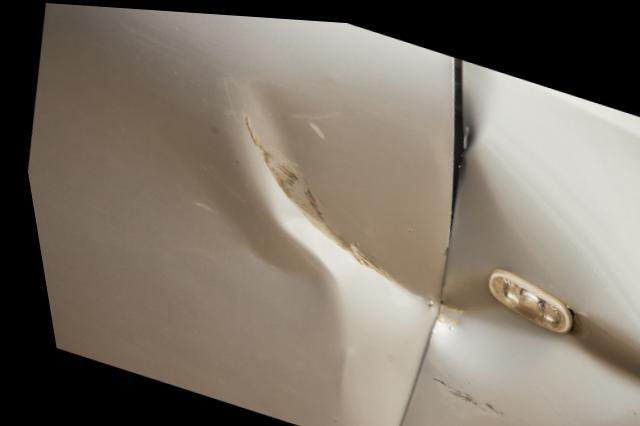dent: (386, 53, 640, 426), (197, 61, 432, 398)
